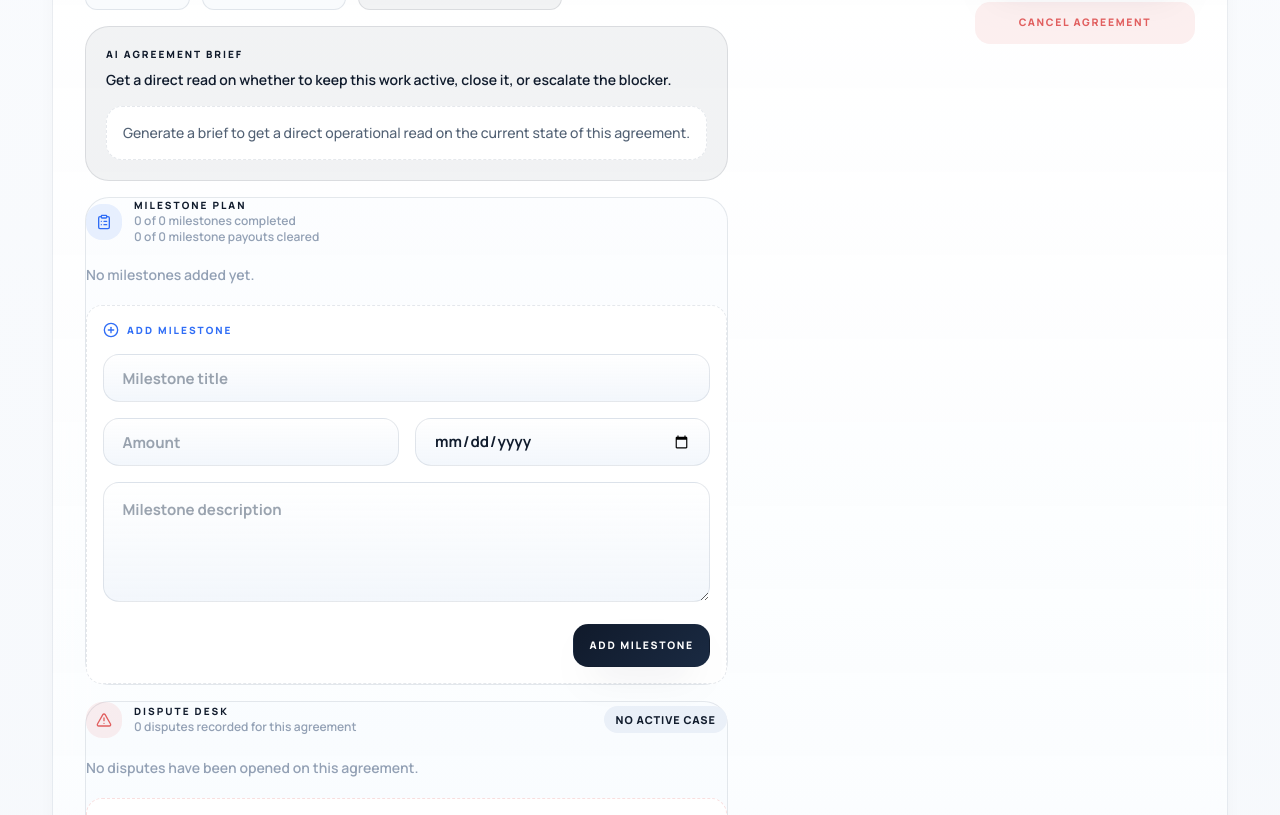
Test: Agreements lifecycle flow › creates a milestone and updates its status through the agreements page
(page scrolled)
Type "Wireframes" into the field with placeholder "Milestone title" at [406, 378], box top-left (103, 354), bottom-right (710, 402)
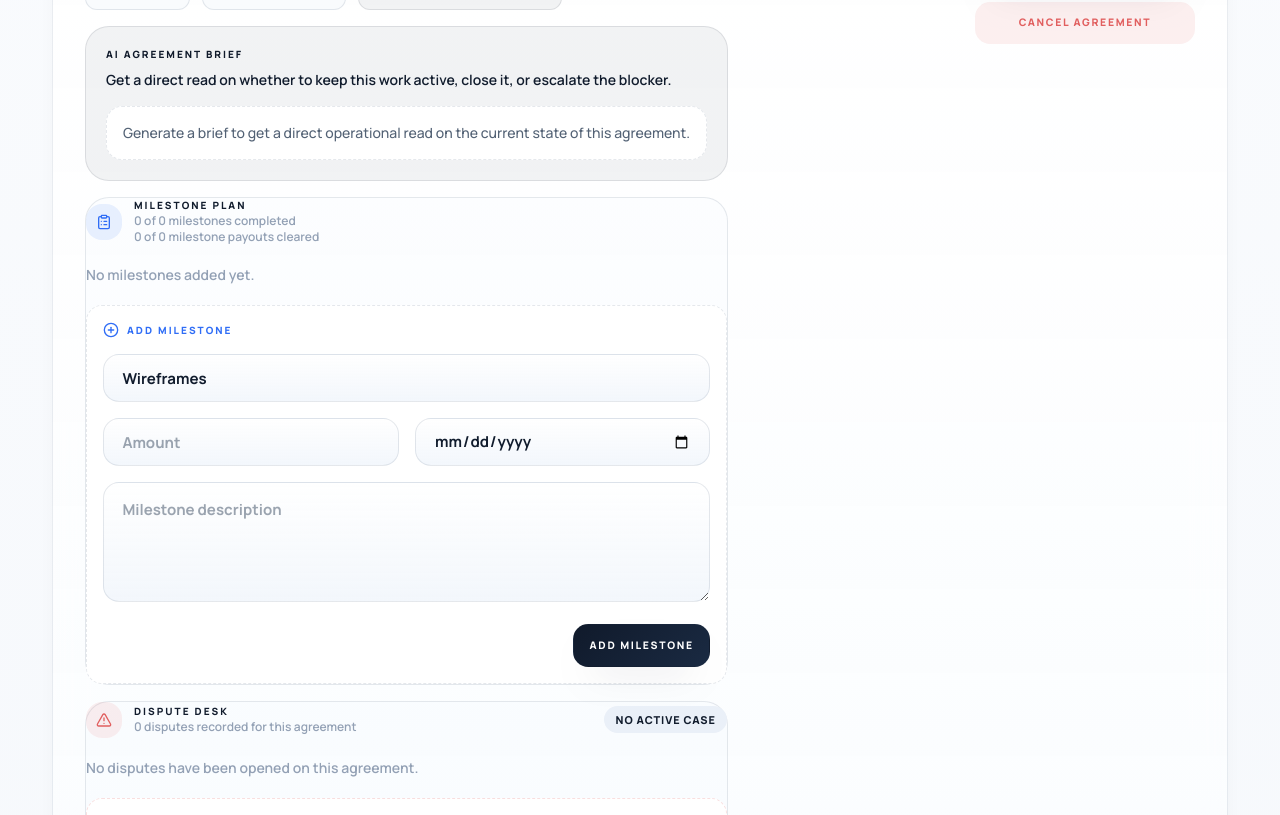
Type "GHS 1,000" into the field with placeholder "Amount" at [251, 442], box top-left (103, 418), bottom-right (398, 466)
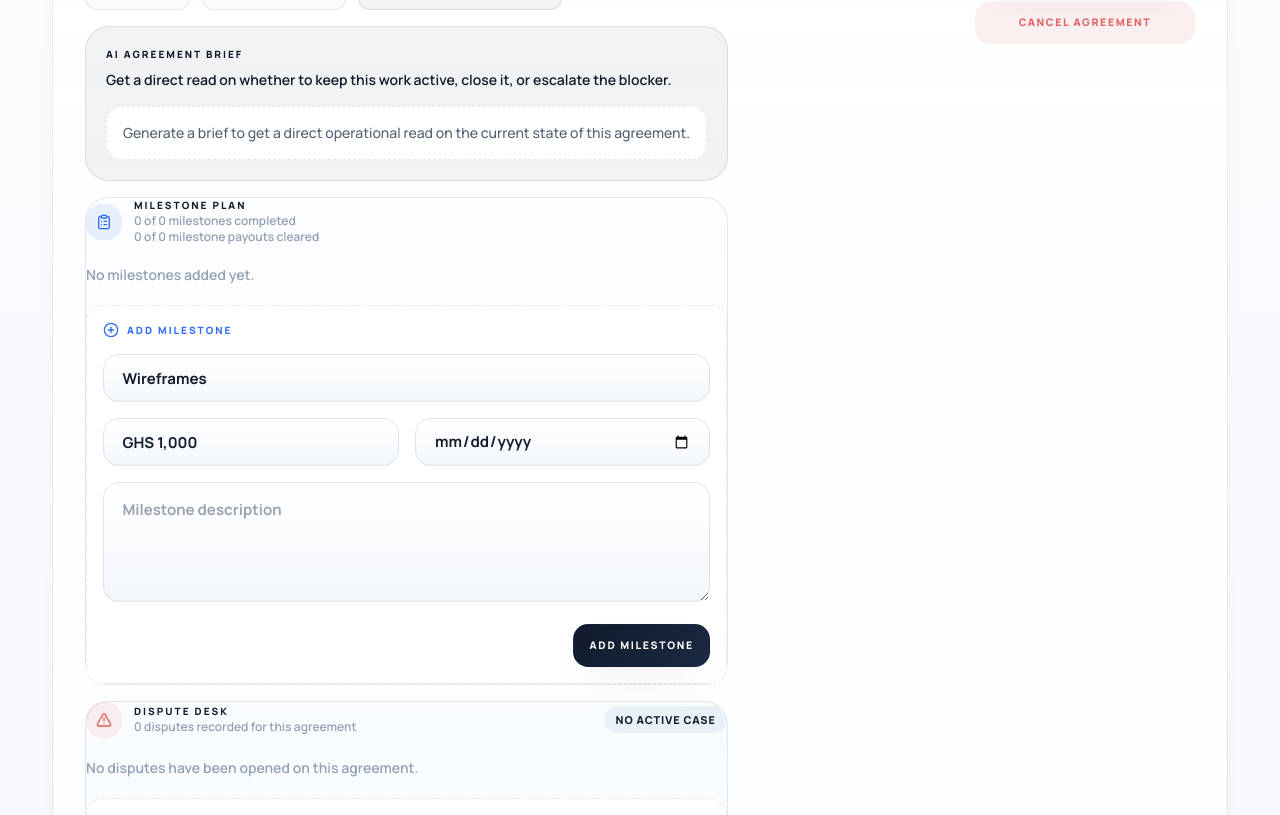
Type "Initial wireframes and layout direction." into the text box with placeholder "Milestone description" at [406, 542], box top-left (103, 482), bottom-right (710, 602)
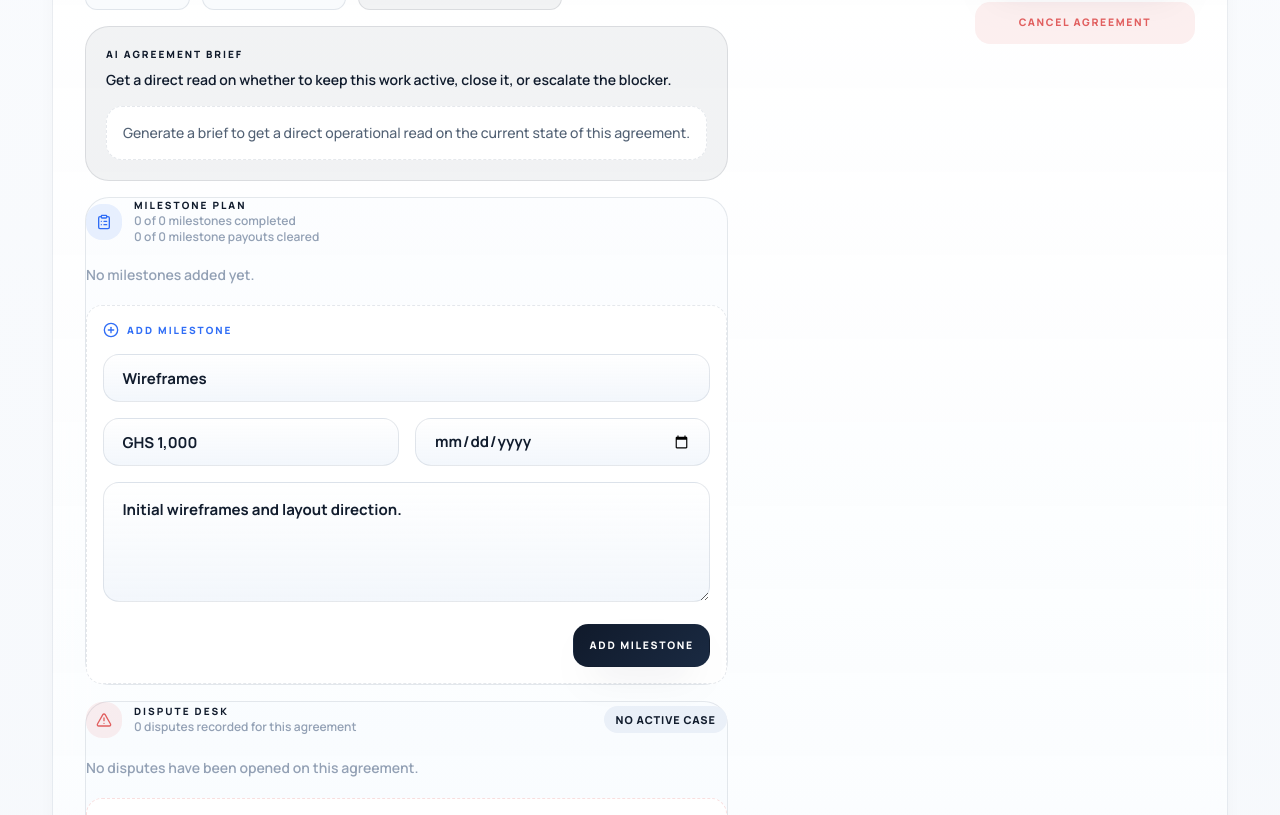
Click the button "Add Milestone" at [642, 646], box top-left (573, 624), bottom-right (710, 667)
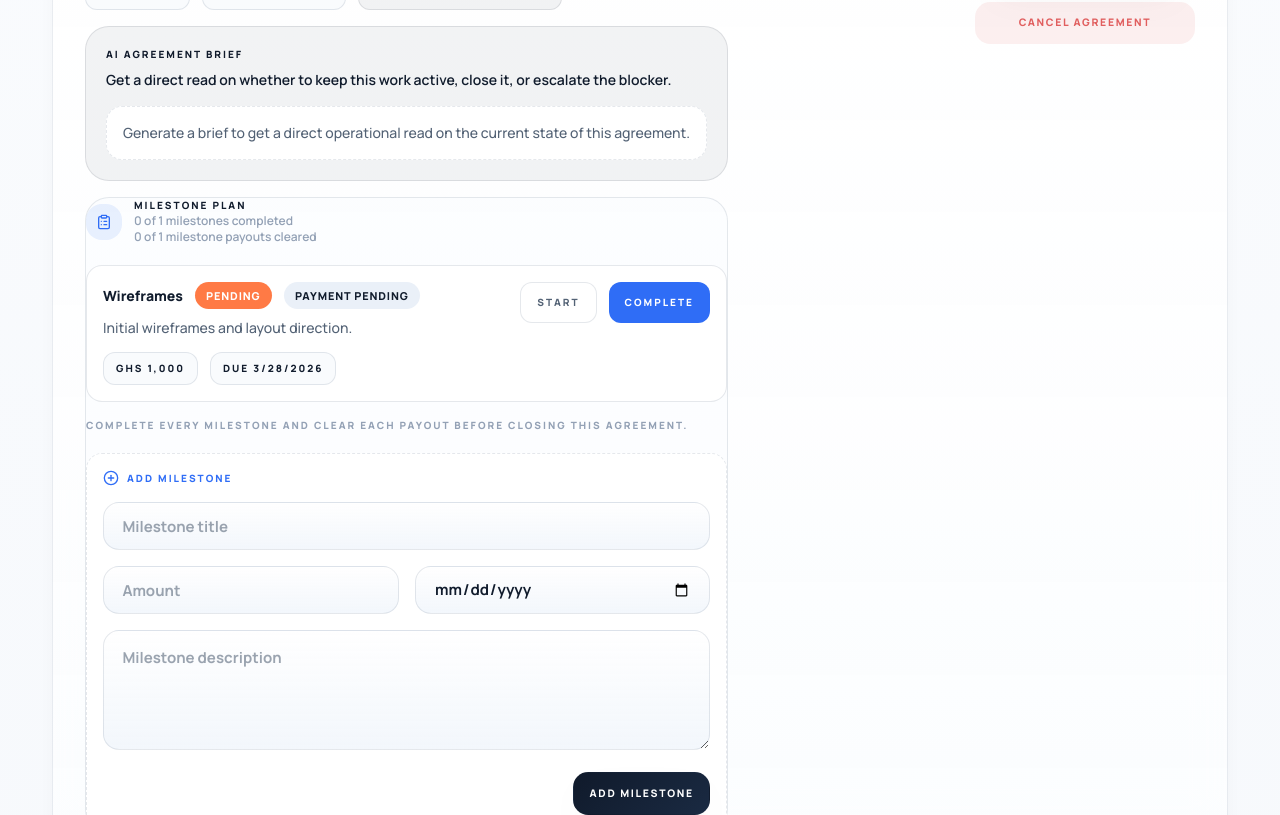
Check: the text "Wireframes" is shown, box top-left (103, 286), bottom-right (183, 306)
Click the button "Complete" at [659, 303], box top-left (609, 282), bottom-right (710, 323)
(page scrolled)
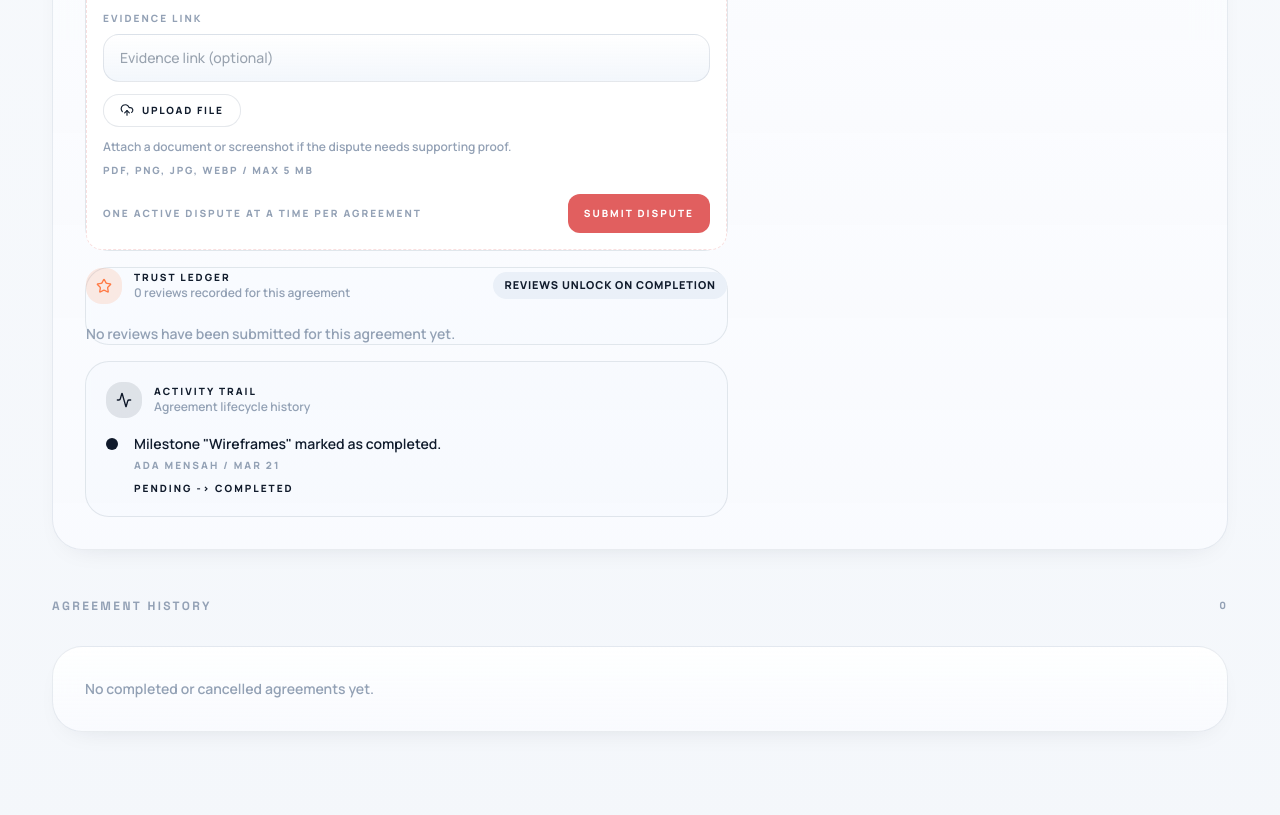
Check: the text "Milestone \"Wireframes\" marked as completed." is shown, box top-left (134, 434), bottom-right (441, 454)
